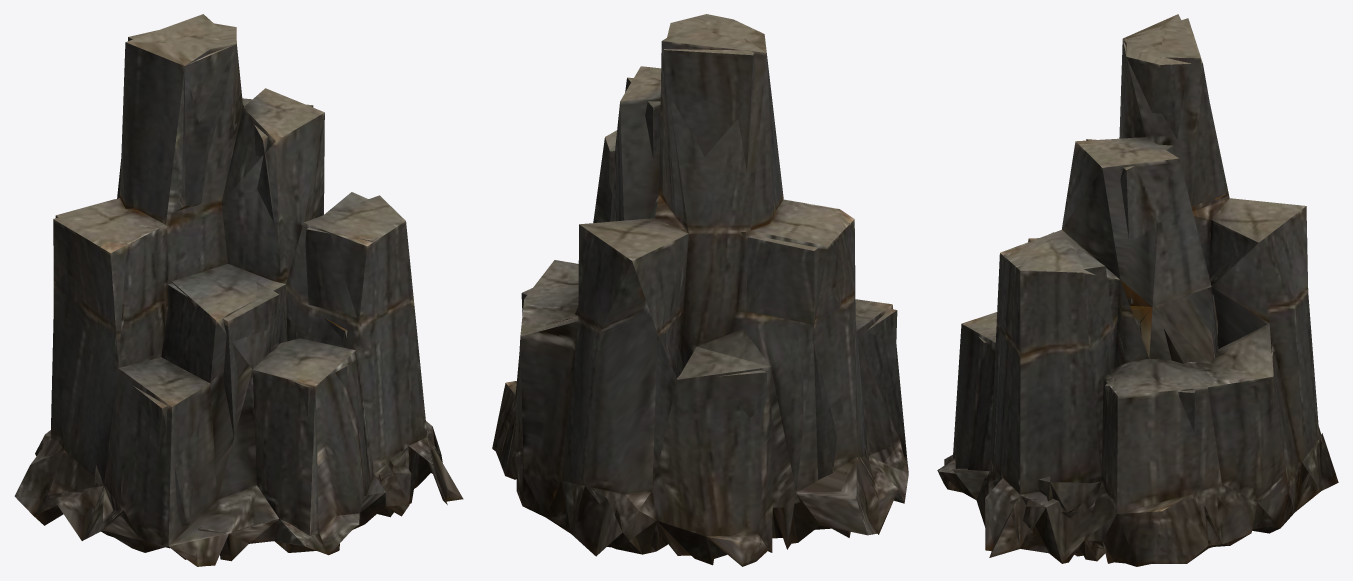
3 renders of one model, left to right at view 1: azimuth 30°, elevation 25°; view 2: azimuth 150°, elevation 25°; view 3: azimuth 270°, elevation 25°, orthographic. The views are drawn at different scales.
Parts seen in each view (by area): view 1: volcanic-basalt-columns.001; view 2: volcanic-basalt-columns.001; view 3: volcanic-basalt-columns.001.
Part boxes in pixels (x1,y1,x2,y2): volcanic-basalt-columns.001: [14, 14, 463, 566]; volcanic-basalt-columns.001: [492, 14, 908, 566]; volcanic-basalt-columns.001: [937, 14, 1338, 566].
Size of the model in its own units: 3.68 by 4.24 by 3.53.
1 material, 1 textured.
